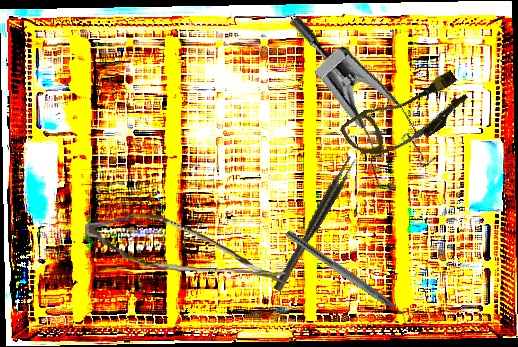Cannula: (338, 58, 475, 176)
Chopper: (279, 229, 417, 331)
Micro Scissor: (82, 211, 292, 285)
Speculum: (241, 12, 459, 206)
Tissue Forceps: (269, 155, 359, 292)
